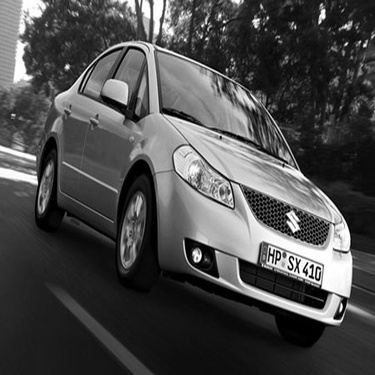car: (26, 37, 358, 351)
